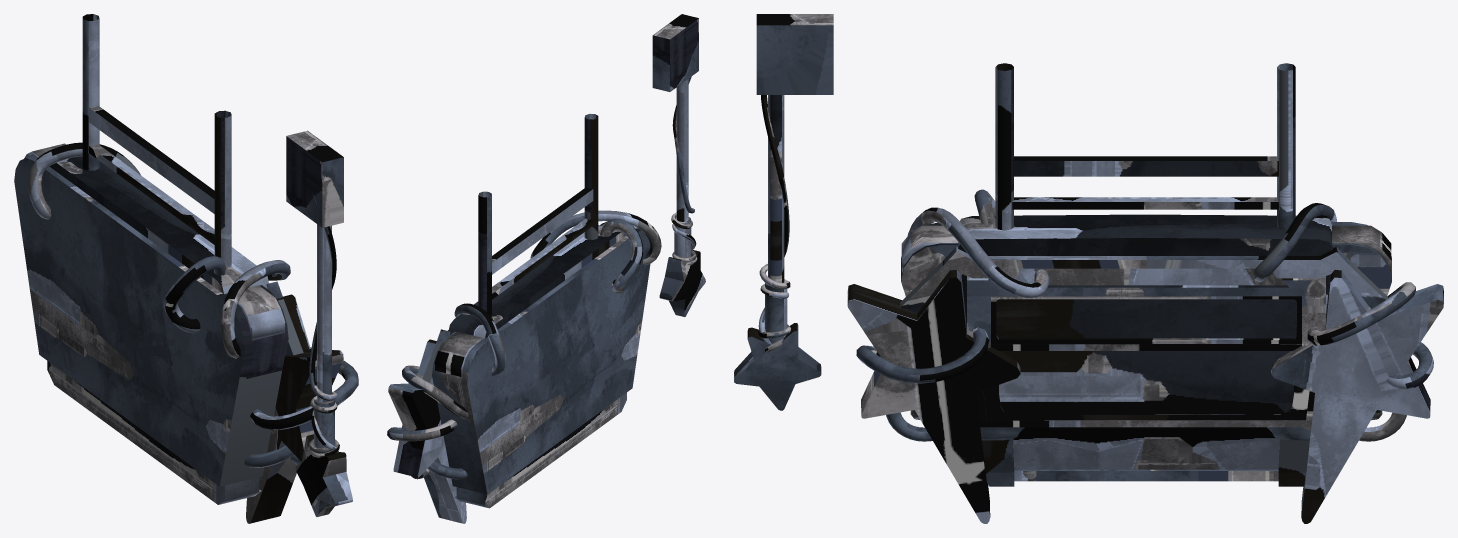
File: SlotMachine.fbx
3 renders of one model, left to right at view 1: azimuth 30°, elevation 25°; view 2: azimuth 150°, elevation 25°; view 3: azimuth 270°, elevation 25°, orthographic. The views are drawn at different scales.
Visible parts, largest first — view 1: 333; view 2: 333; view 3: 333.
Boxes of the visible parts, box(x1,y1,x2,y2) form: 333: box(14, 14, 358, 523); 333: box(387, 14, 705, 523); 333: box(734, 14, 1443, 523).
Size of the model in its own units: 62.19 by 178 by 241.
